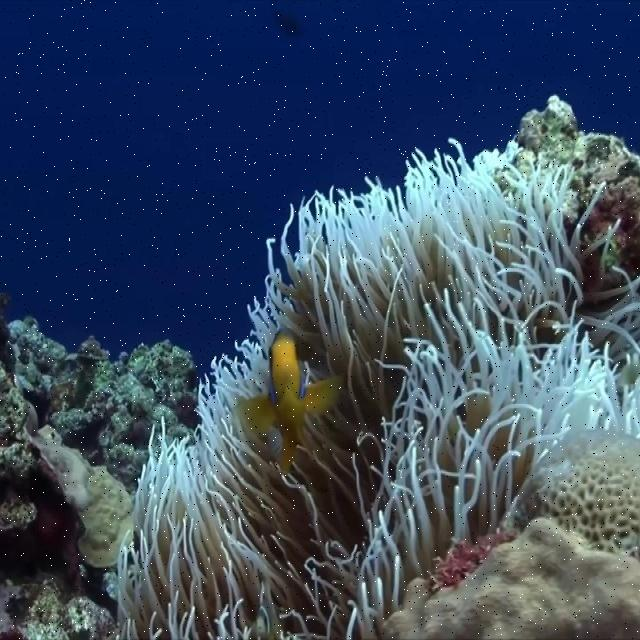fish: (235, 328, 345, 477)
reefs: (118, 139, 639, 639)
